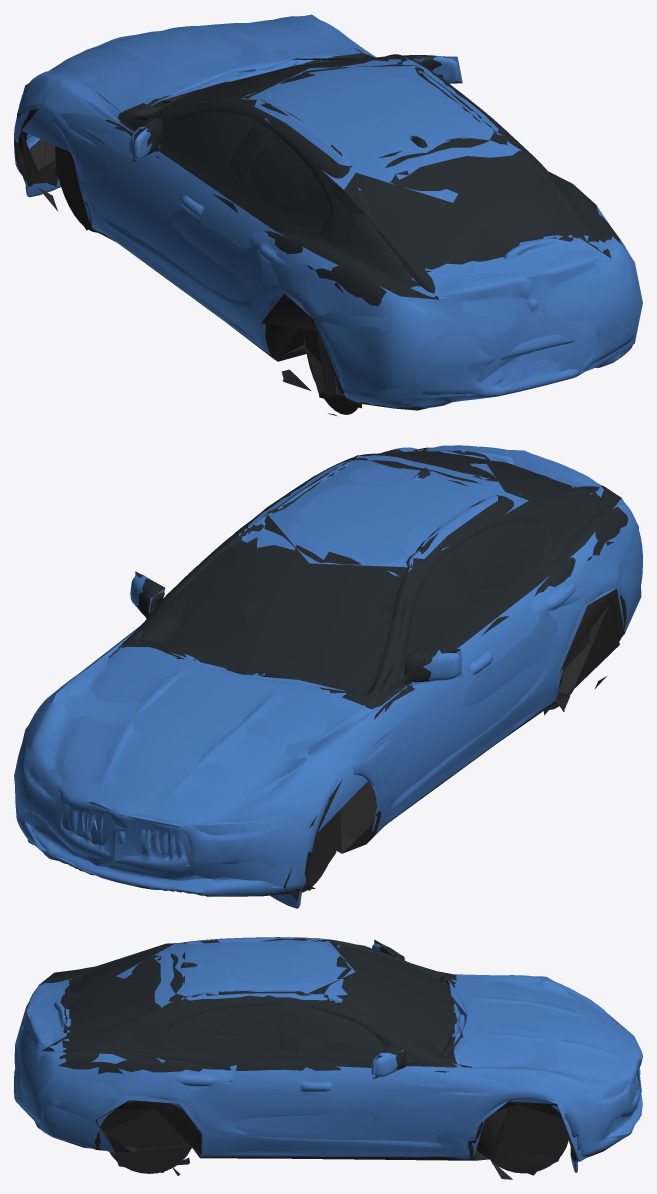
The model's file is maserati-ghibli.glb.
3 views of the same model, one above another, from view 1: azimuth 30°, elevation 25°; view 2: azimuth 150°, elevation 25°; view 3: azimuth 270°, elevation 25° (orthographic). The views are drawn at different scales.
Visible parts, largest first — view 1: body, far; view 2: body, far; view 3: body, far.
Part boxes in pixels (x1=…): body: x1=14, y1=16, x2=637, y2=416; far: x1=17, y1=14, x2=642, y2=408; body: x1=15, y1=445, x2=642, y2=908; far: x1=14, y1=447, x2=641, y2=901; body: x1=14, y1=937, x2=642, y2=1179; far: x1=15, y1=939, x2=642, y2=1175.
Size of the model in its own units: 2.24 by 1.5 by 4.94.
